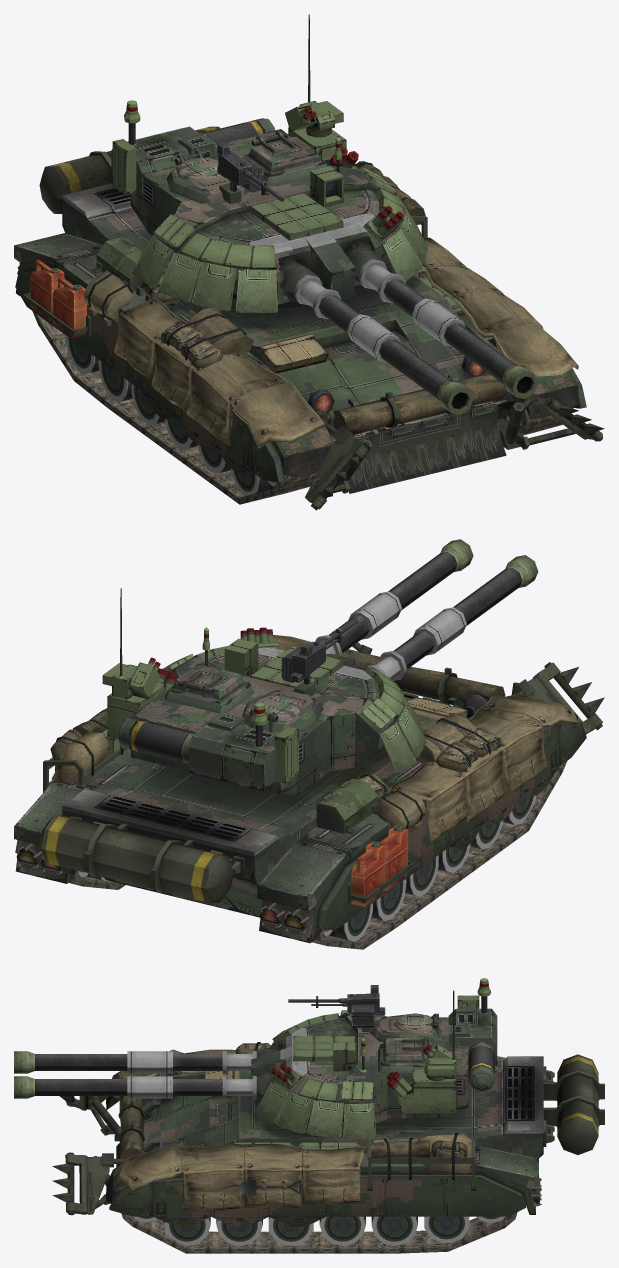
File: au_mediumcannontank.fbx
3 renders of one model, top to bottom at view 1: azimuth 30°, elevation 25°; view 2: azimuth 150°, elevation 25°; view 3: azimuth 270°, elevation 25°, orthographic. The views are drawn at different scales.
Visible parts, largest first — view 1: body02, body01, rack; view 2: body01, body02, rack; view 3: body01, body02, rack.
Boxes of the visible parts, x1,y1,x2,y2 form: body02: (15,14,604,510); body01: (14,118,538,495); rack: (32,311,562,504); body01: (14,539,538,943); body02: (15,588,604,930); rack: (69,761,567,949); body01: (14,985,554,1246); body02: (52,978,604,1226); rack: (119,1100,517,1253).
Size of the model in its own units: 205 by 178 by 392.
